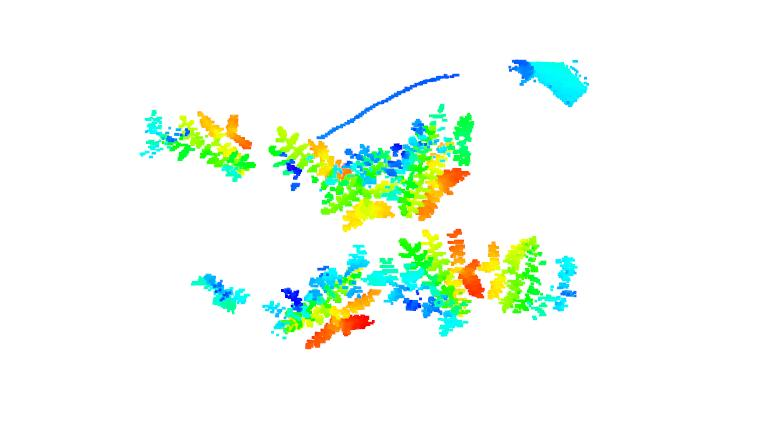chickpea: (271, 242, 386, 351), (392, 107, 495, 227), (371, 230, 488, 334), (128, 109, 259, 185), (486, 234, 584, 324), (315, 133, 394, 232), (266, 118, 316, 199), (188, 268, 250, 324)
